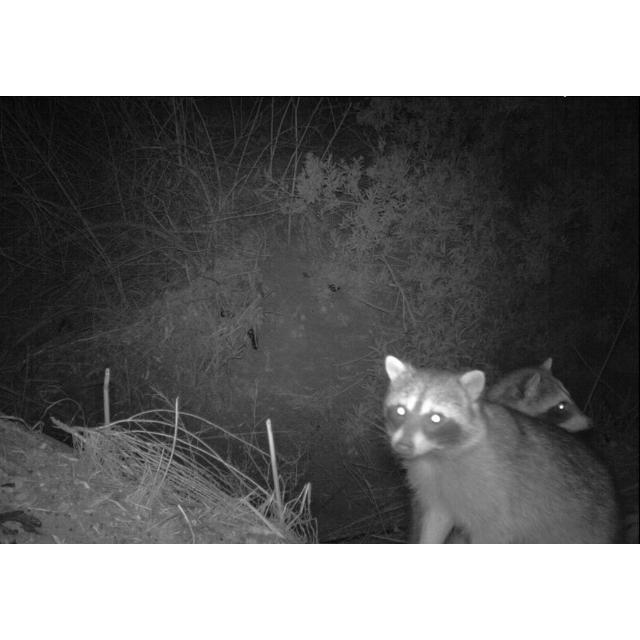animals: (378, 351, 620, 545)
